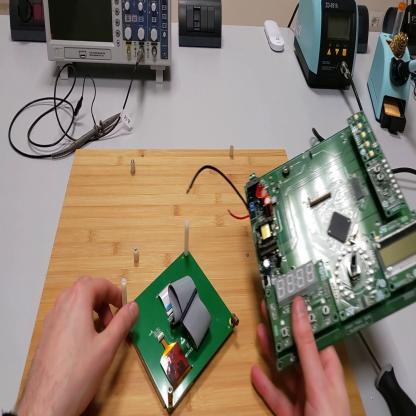hand: (18, 275, 139, 415), (252, 294, 351, 415)
low voltage board: (188, 111, 416, 373)
oscilloscope: (48, 1, 172, 83)
oscilloscope probe tip: (54, 109, 125, 161)
screwdriver-: (360, 334, 416, 414)
socket: (11, 1, 48, 45), (384, 3, 415, 41), (357, 7, 371, 53)
welder base: (369, 1, 415, 136)
welder probe tip: (398, 60, 416, 78)
welder station: (296, 2, 360, 90)
working area: (14, 148, 367, 416)
